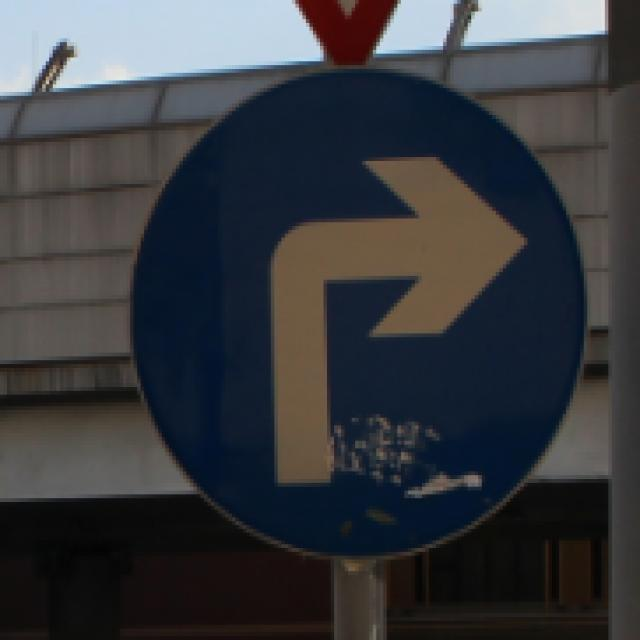Right: (131, 69, 596, 565)
